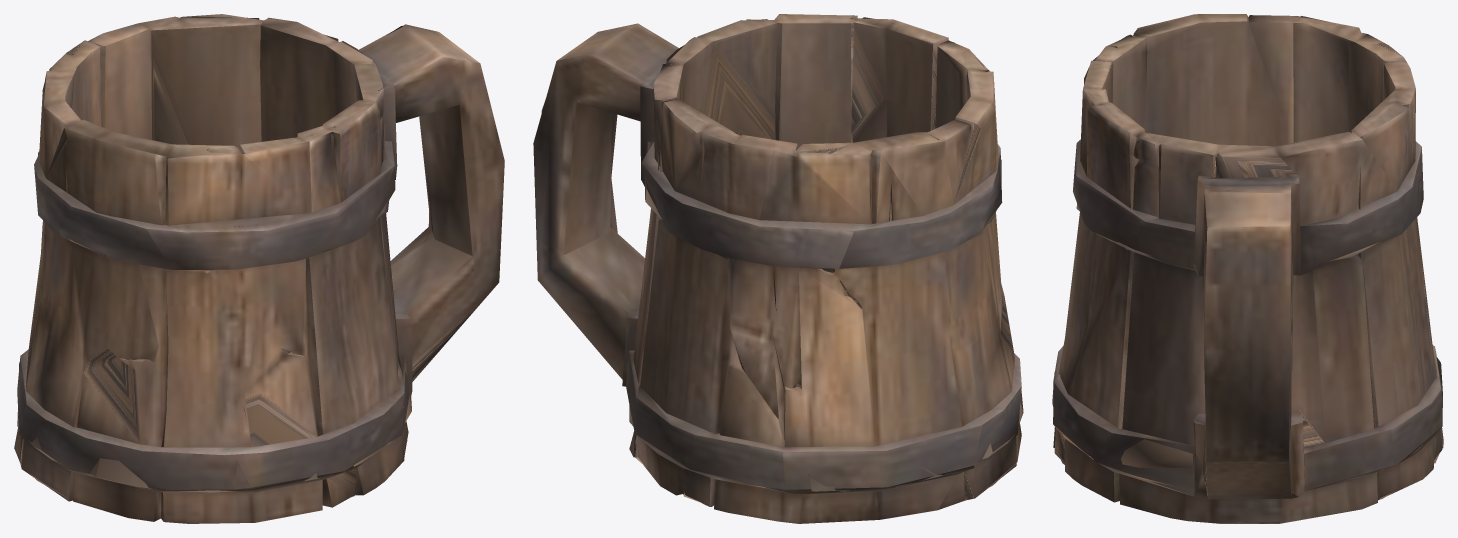
The picture shows the model from 3 angles, left to right: view 1: azimuth 30°, elevation 25°; view 2: azimuth 150°, elevation 25°; view 3: azimuth 270°, elevation 25°; orthographic projection.
Parts seen in each view (by area): view 1: geometry_0; view 2: geometry_0; view 3: geometry_0.
Part boxes in pixels (left/top/right/bottom): geometry_0: left=14, top=14, right=504, bottom=523; geometry_0: left=533, top=14, right=1023, bottom=523; geometry_0: left=1052, top=14, right=1443, bottom=523.
Size of the model in its own units: 0.1412 by 0.1097 by 0.1076.
Materials: 1 (1 with a texture image).
